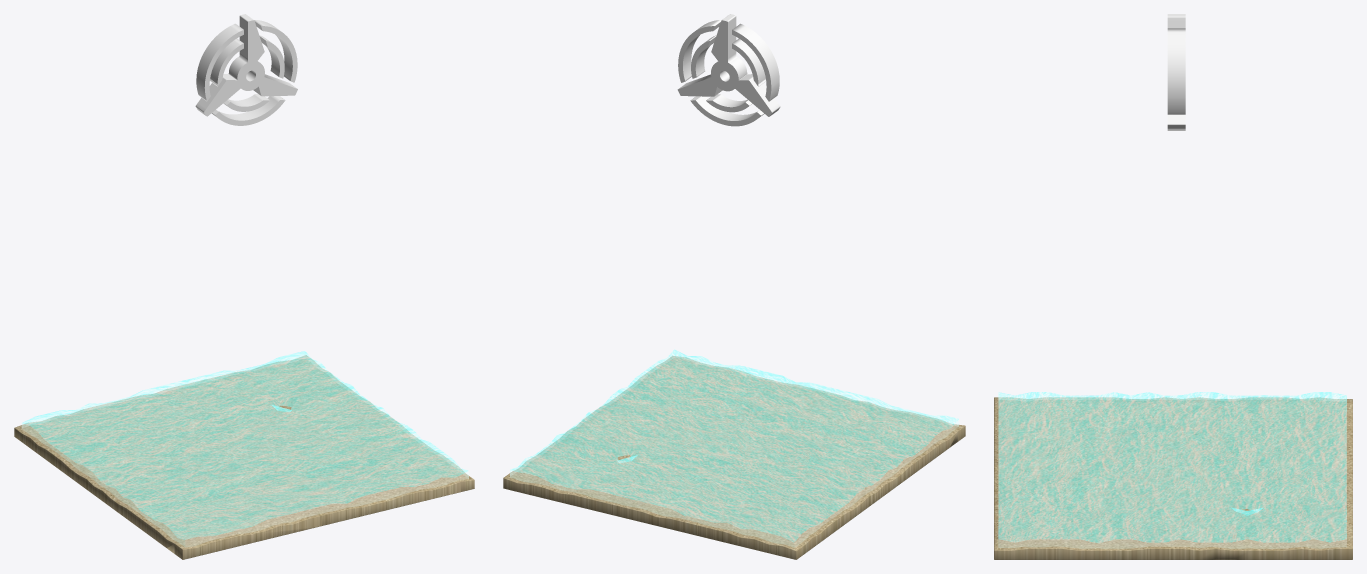
The model's file is water-lower-wind-trans1.glb.
3 views of the same model, side by side, from view 1: azimuth 30°, elevation 25°; view 2: azimuth 150°, elevation 25°; view 3: azimuth 270°, elevation 25° (orthographic). The views are drawn at different scales.
Visible parts, largest first — view 1: Sand, Plane.002_1, Curve.060, Plane.002_0; view 2: Sand, Plane.002_1, Curve.060, Plane.002_0; view 3: Sand, Plane.002_1, Plane.002_0, Curve.060.
Boxes of the visible parts, bbox=[...] form: Sand: bbox=[14, 355, 474, 559]; Plane.002_1: bbox=[22, 351, 468, 539]; Curve.060: bbox=[195, 14, 297, 125]; Plane.002_0: bbox=[21, 423, 468, 546]; Sand: bbox=[503, 356, 965, 559]; Plane.002_1: bbox=[510, 349, 958, 542]; Curve.060: bbox=[677, 14, 780, 126]; Plane.002_0: bbox=[510, 419, 958, 547]; Sand: bbox=[994, 397, 1352, 559]; Plane.002_1: bbox=[998, 392, 1346, 542]; Plane.002_0: bbox=[998, 392, 1346, 548]; Curve.060: bbox=[1167, 14, 1185, 130].
Size of the model in its own units: 107 by 155 by 107.
4 materials, 2 textured.
